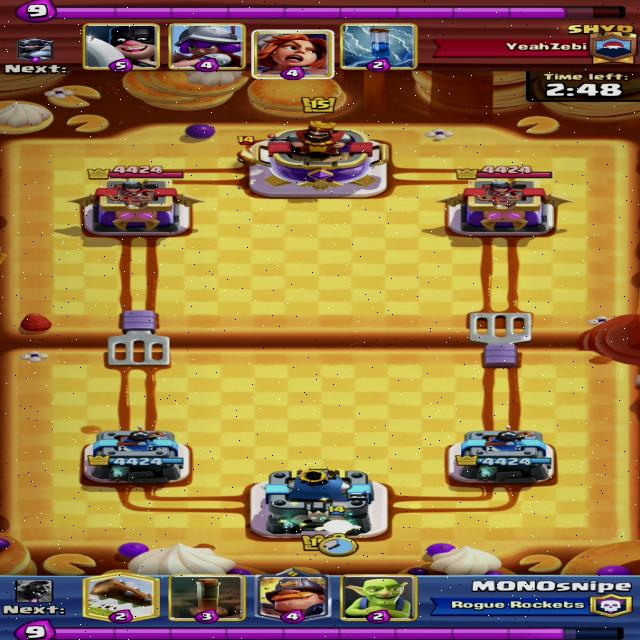Enemy-FireSpirit: (235, 135, 262, 168)
Player-IceSpirit: (314, 505, 362, 538)
